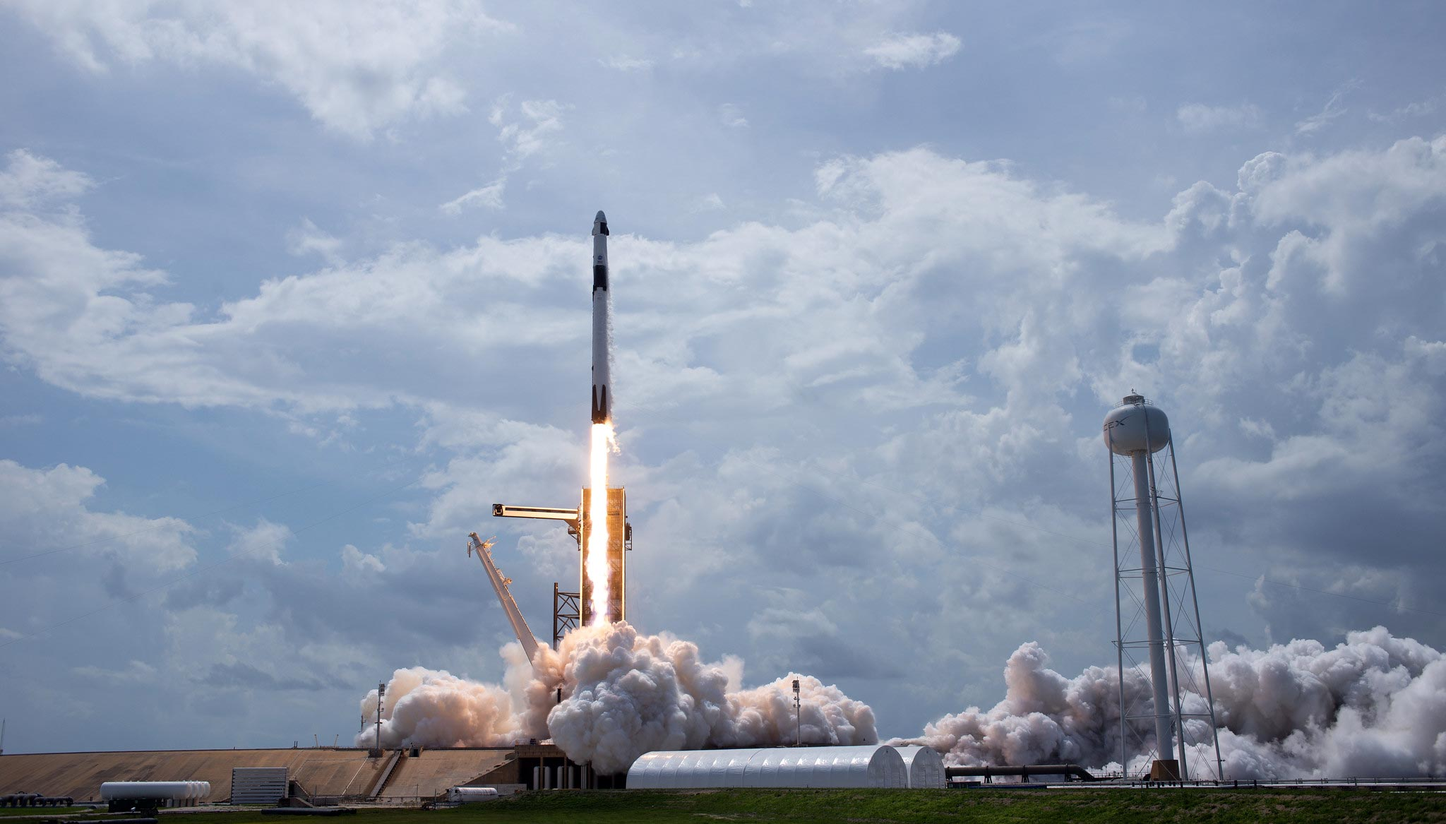falcon: (582, 205, 625, 443)
